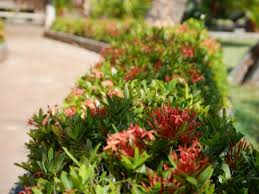flower: (77, 21, 245, 190)
